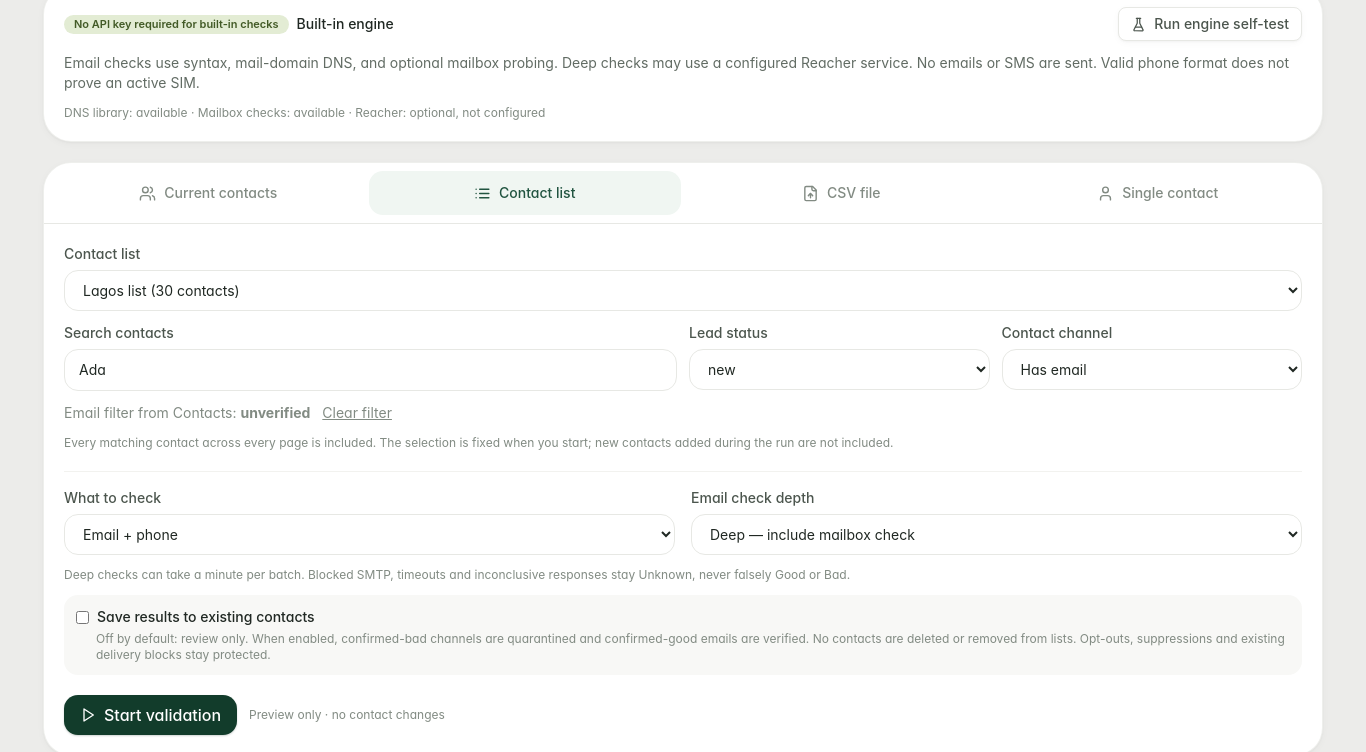
Validator workspace › opens a list with inherited filters and confirms before saving
(page scrolled)
Click the checkbox labelled "Save results to existing contacts" at [82, 618], box [76,611,89,624]
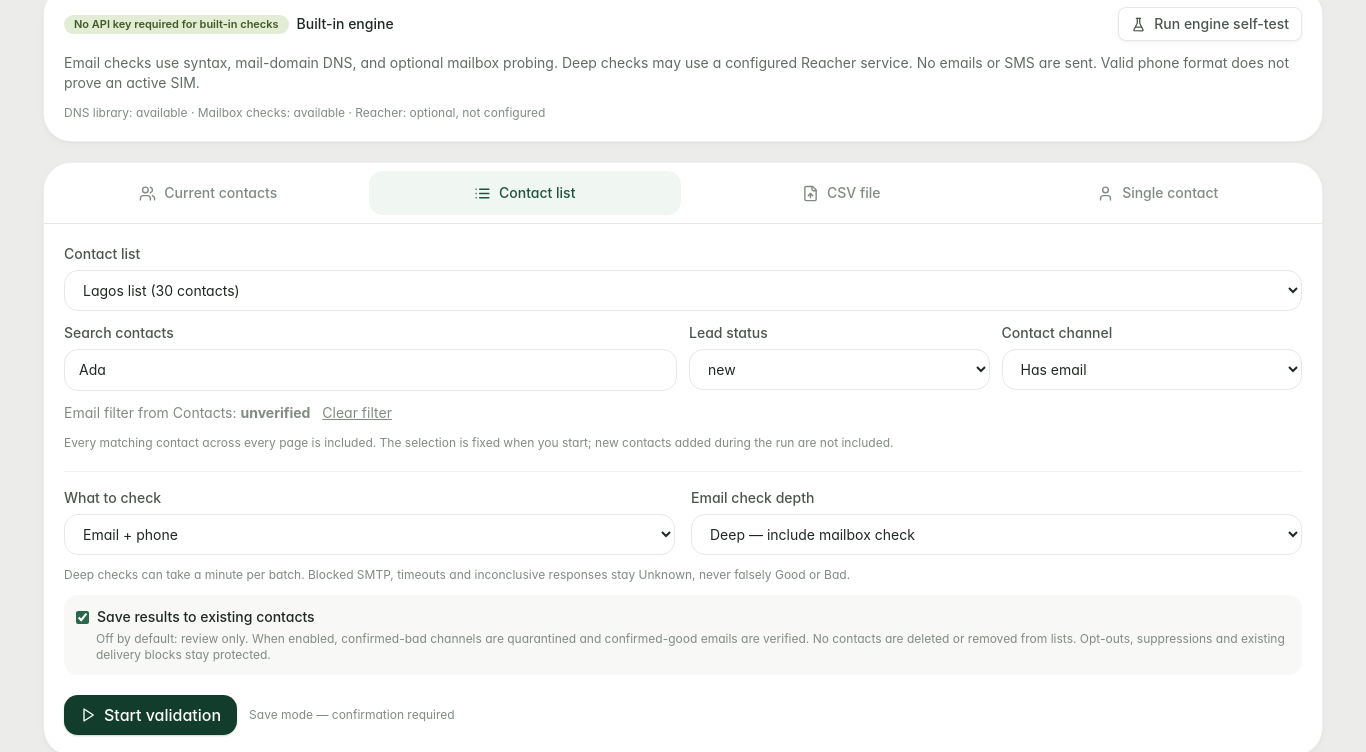
Click the button "Start validation" at [151, 715], box [64,695,237,735]
(page scrolled)
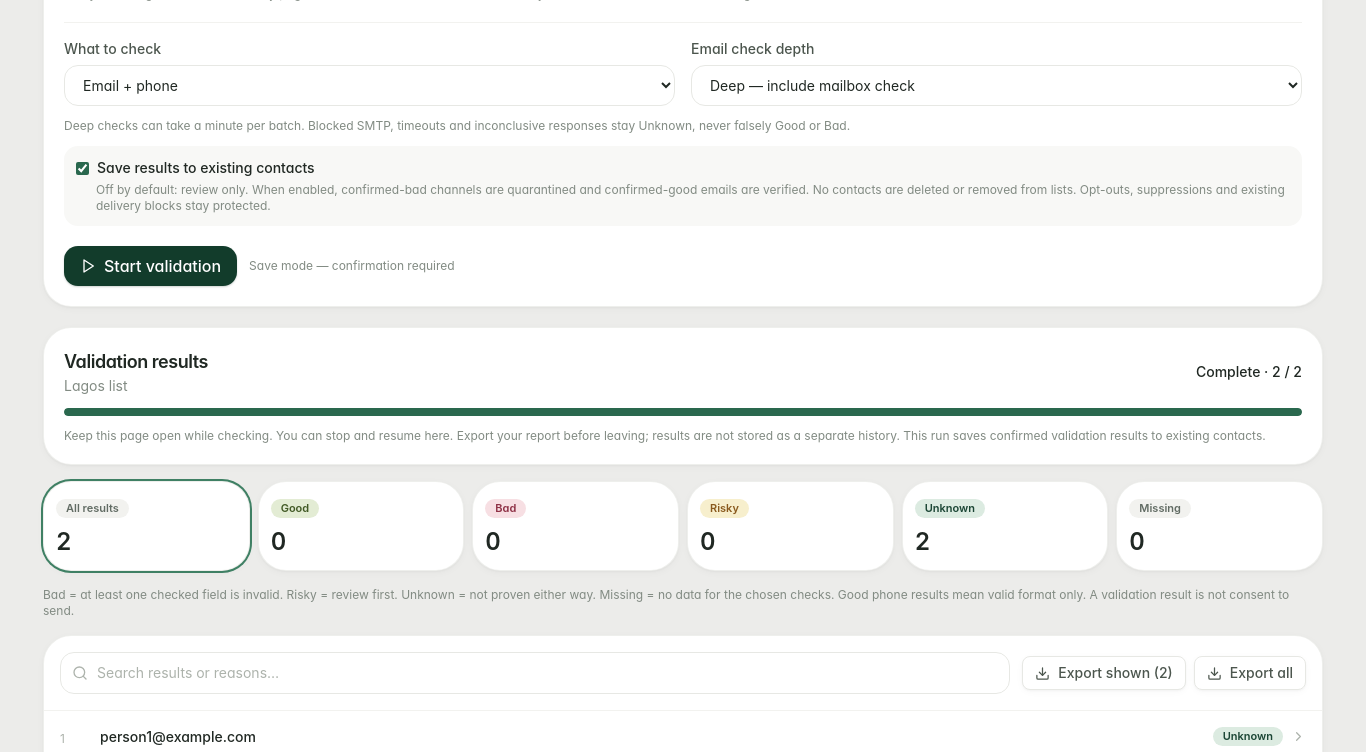
Expected: the text "Complete · 2 / 2" is shown, [1196,362,1302,382]
